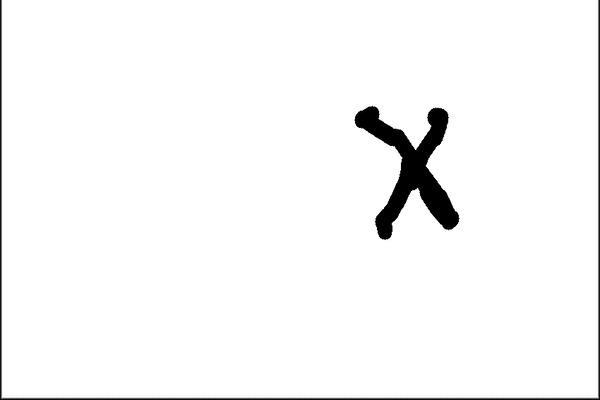X: (331, 82, 477, 276)
